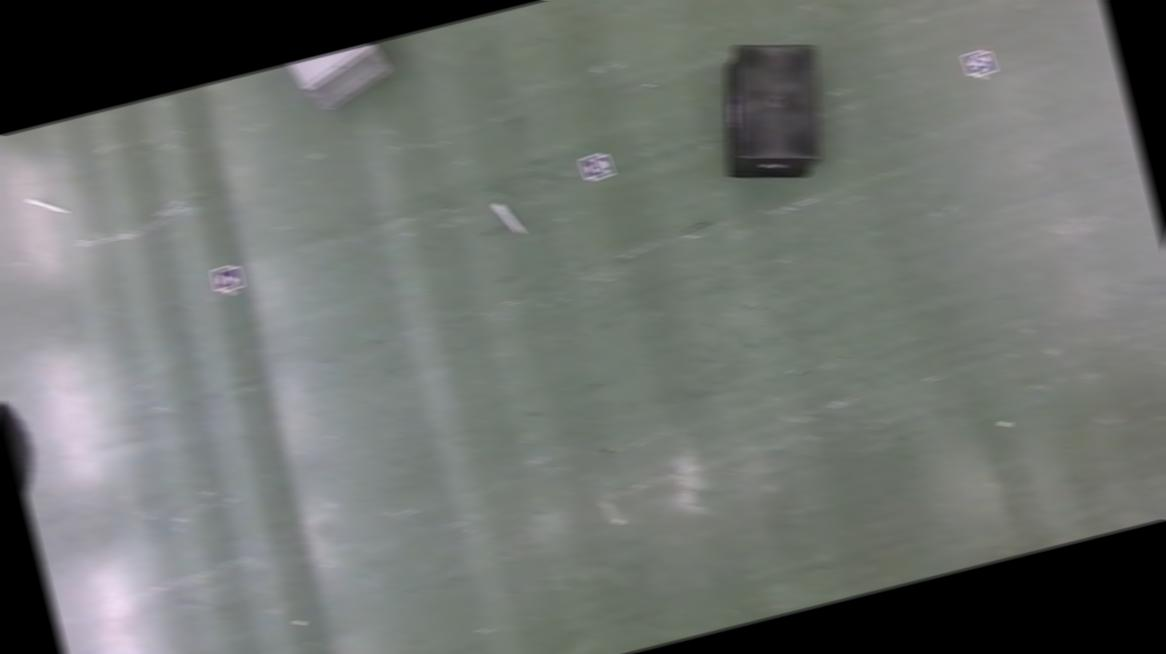probes: (492, 201, 522, 240), (29, 192, 68, 222)
rako: (697, 29, 847, 197), (278, 40, 400, 121)
